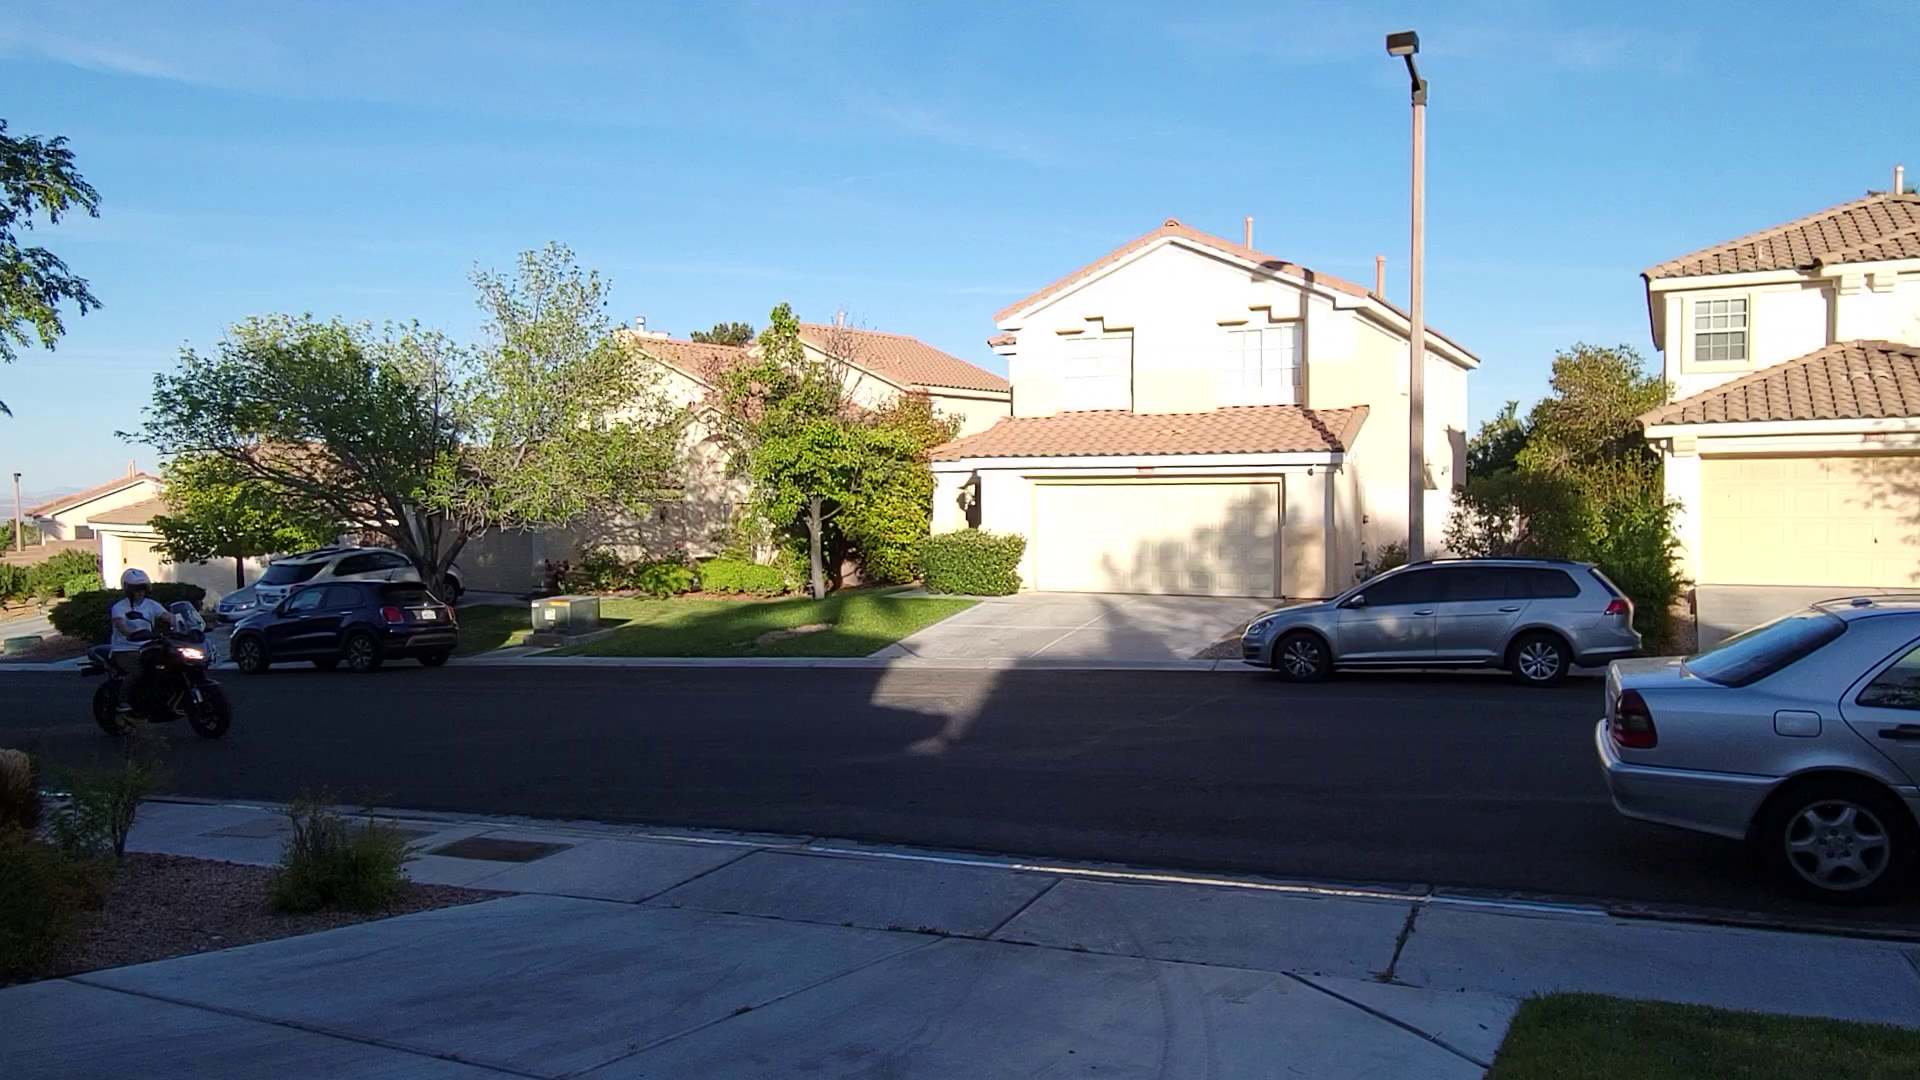my bike: (73, 563, 236, 742)
